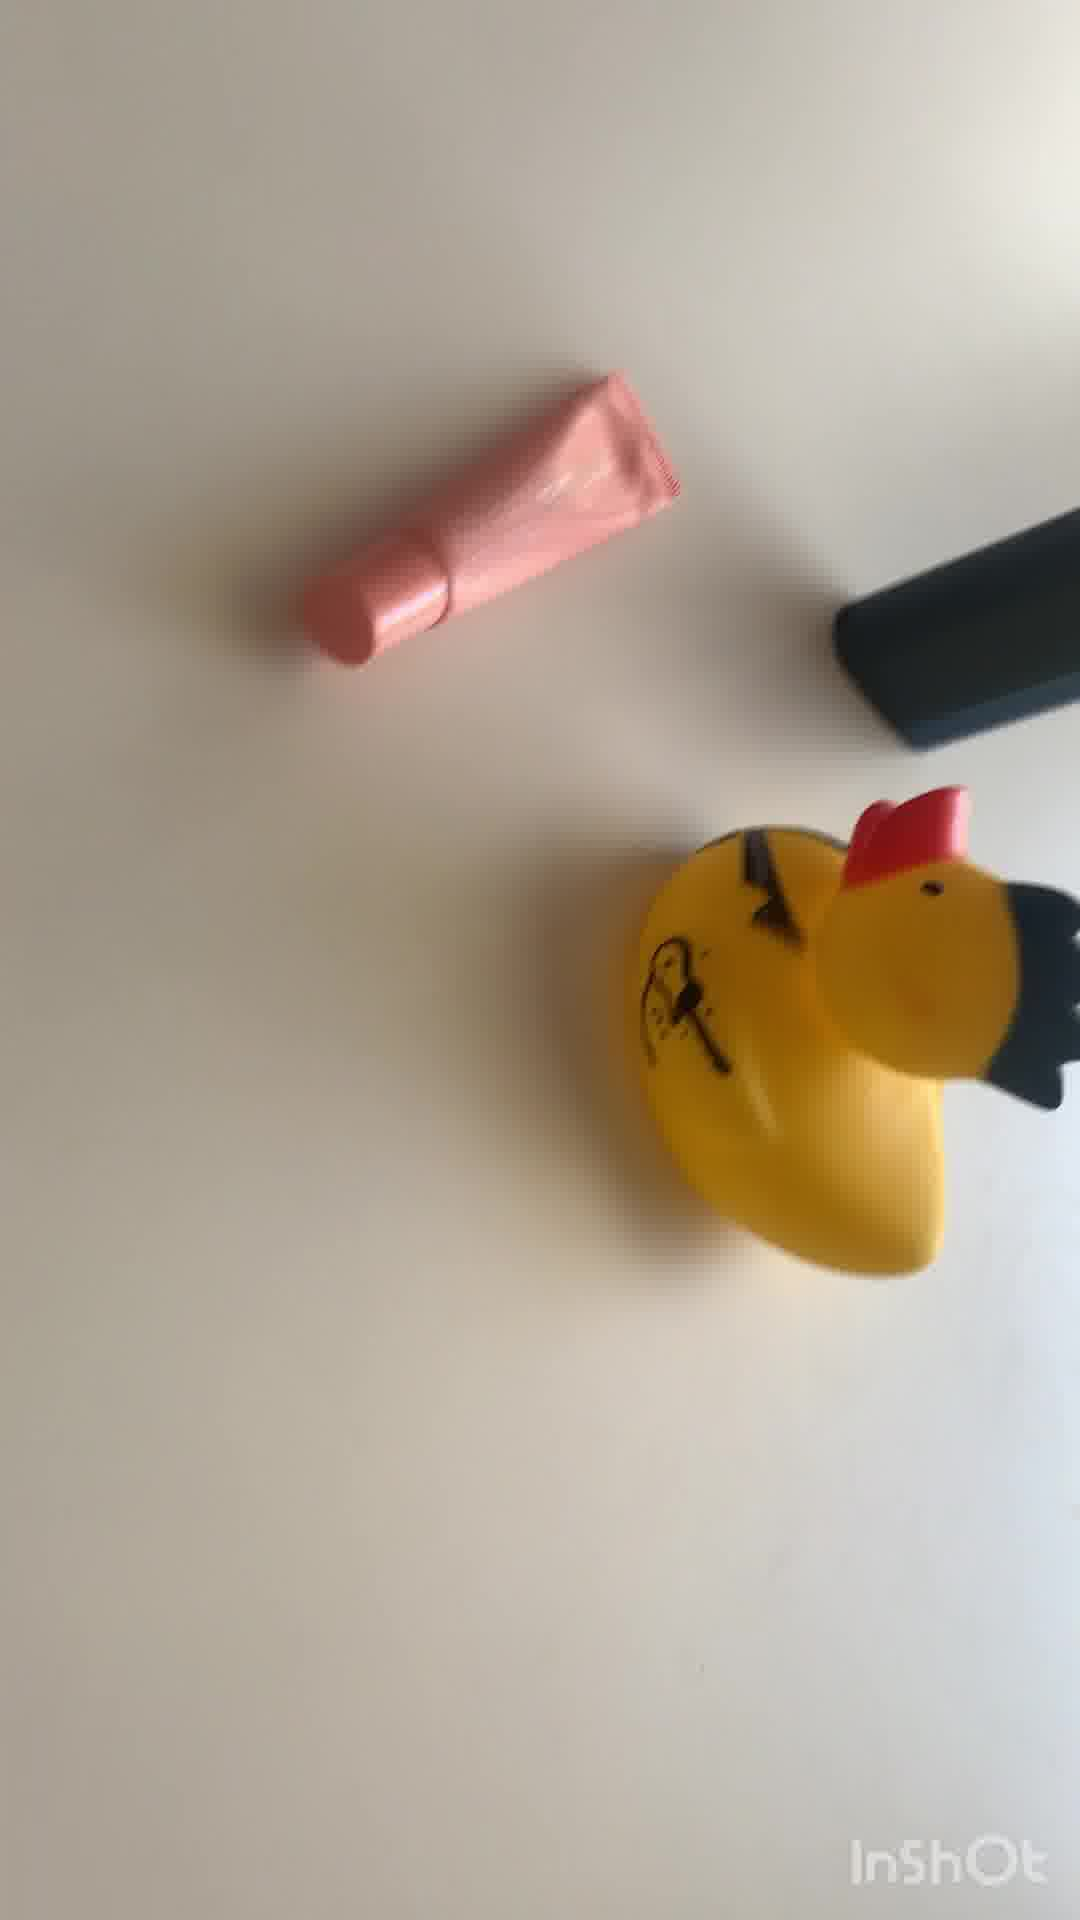duck: (628, 785, 1080, 1287)
glo: (828, 505, 1080, 760)
lip balm: (295, 375, 684, 669)
